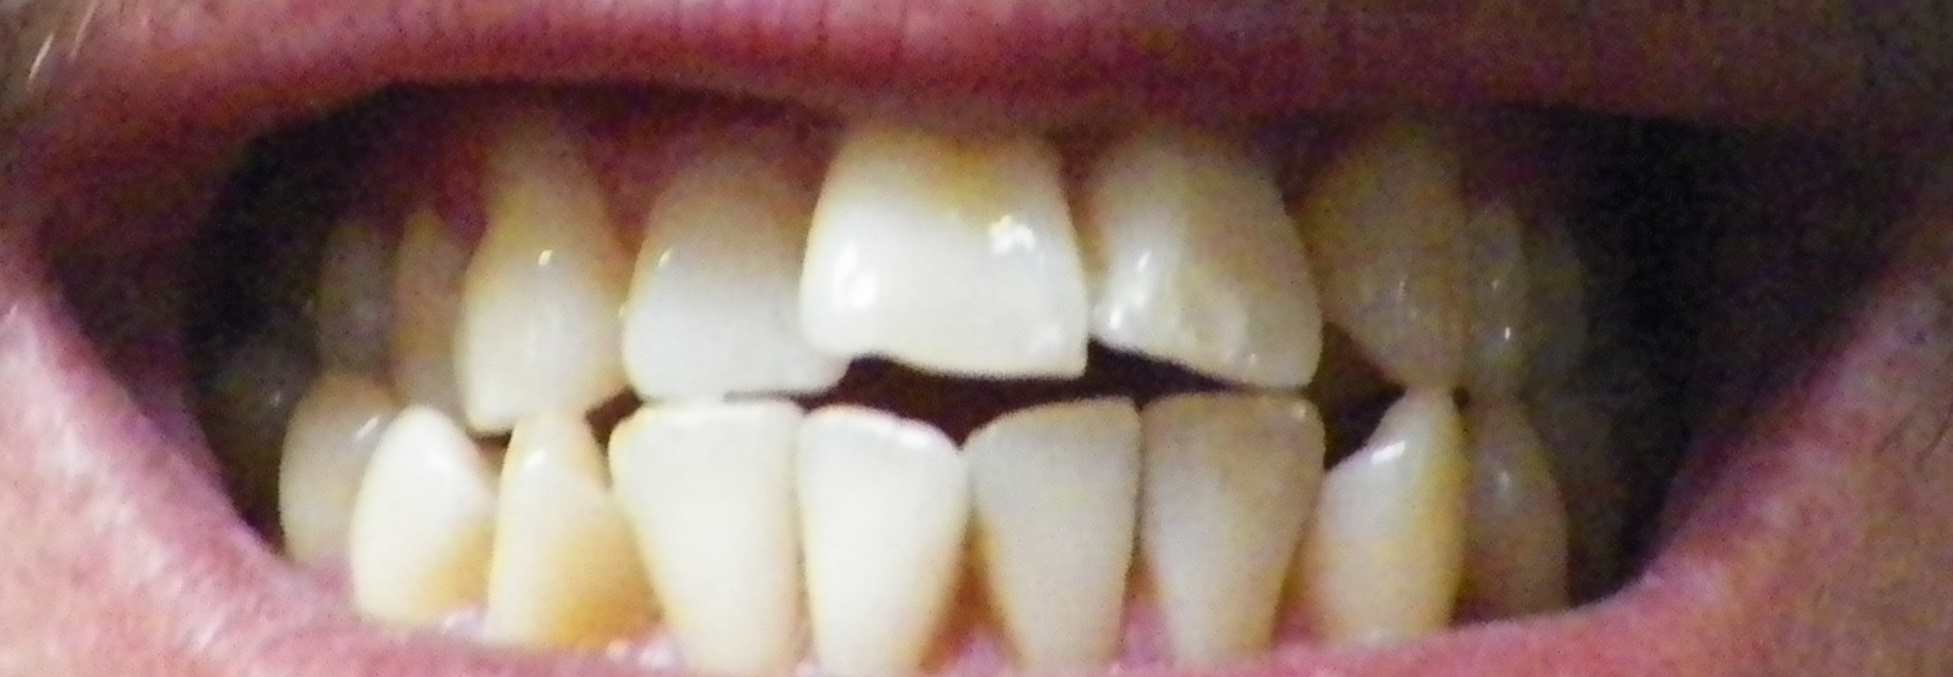boca: (264, 154, 1579, 660)
